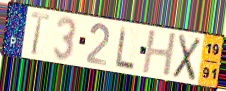2: (85, 21, 111, 68)
3: (52, 15, 79, 64)
H: (141, 29, 179, 78)
L: (115, 24, 136, 71)
T: (30, 10, 51, 57)
X: (171, 32, 203, 83)
